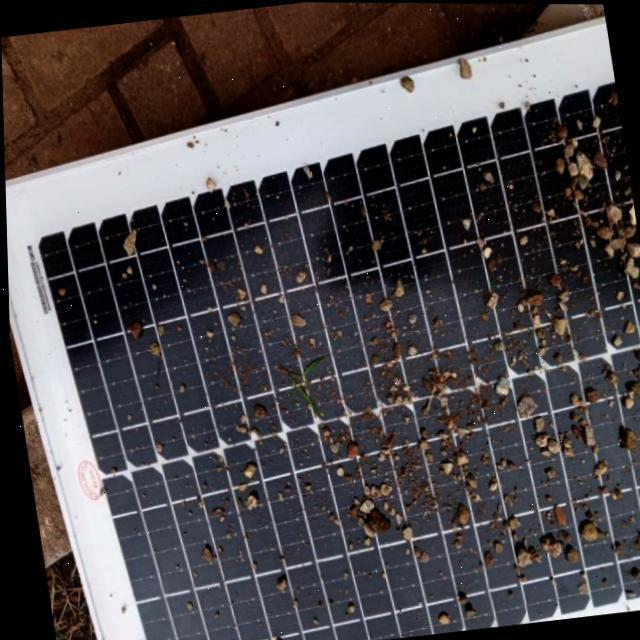Surface Contaminant: (56, 116, 640, 640)
